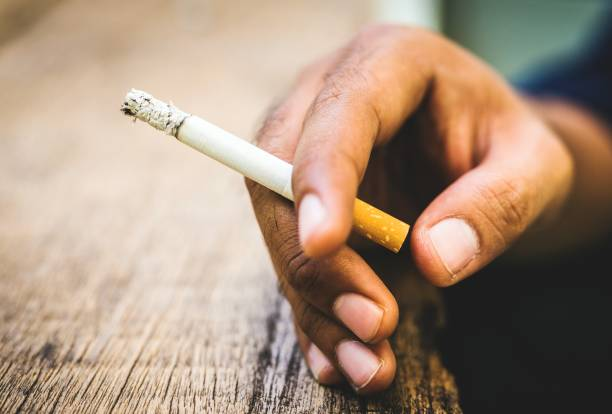cigarette: (117, 87, 409, 253)
